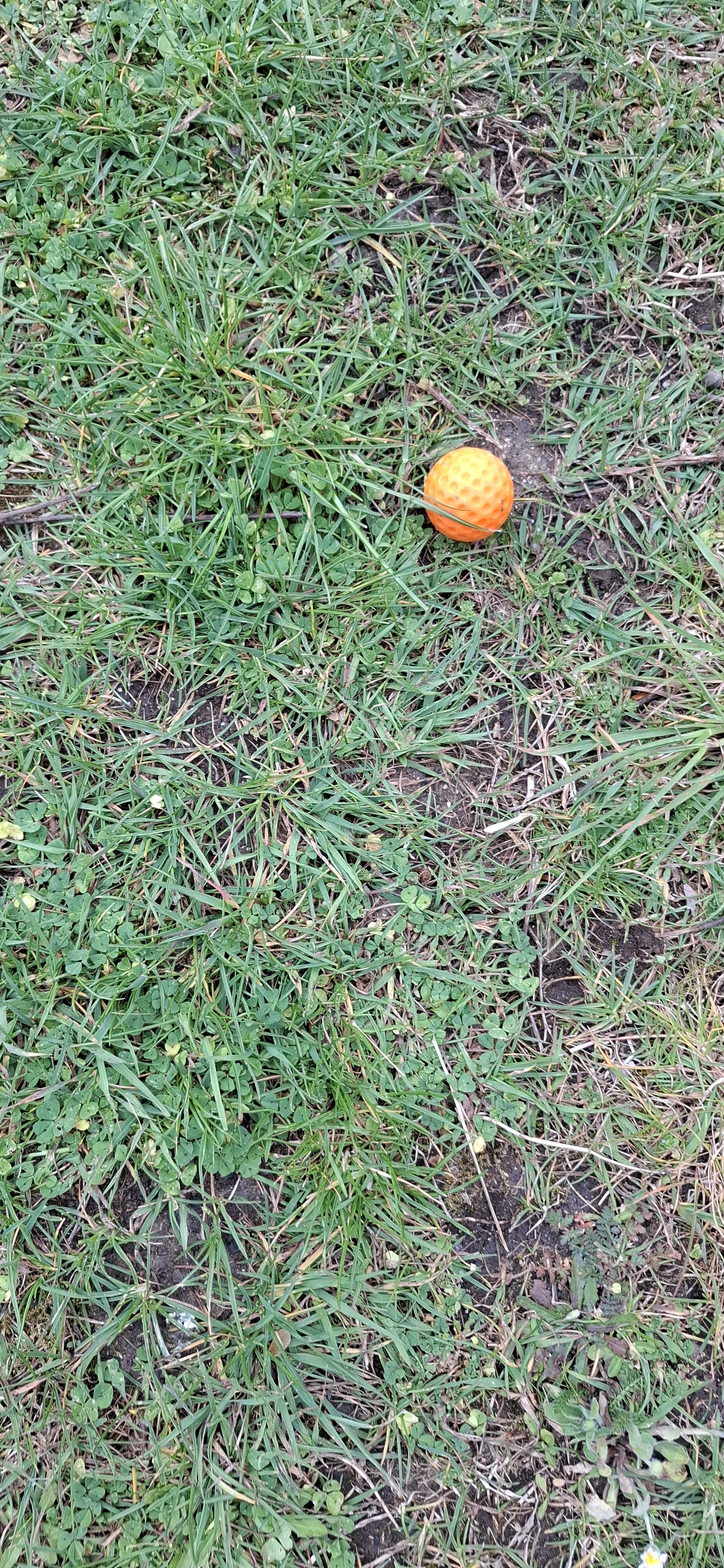ball: (206, 454, 251, 650)
